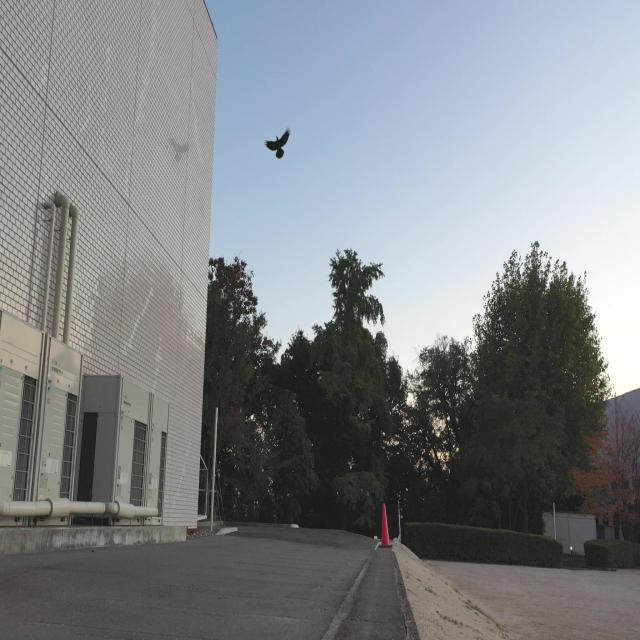Birds: (262, 126, 294, 162)
